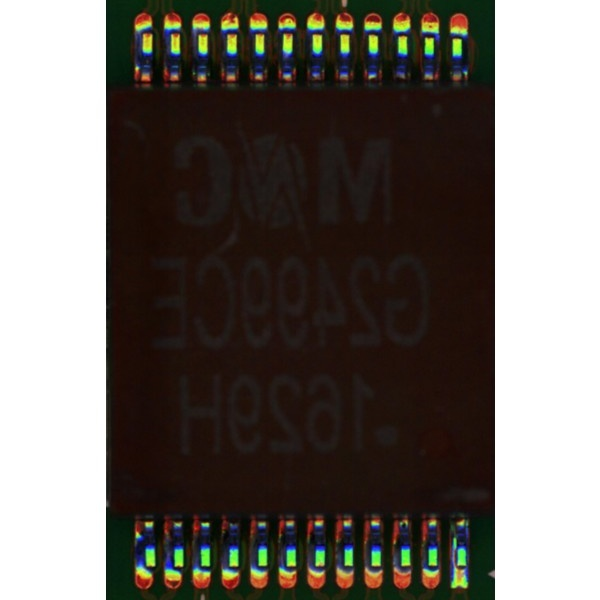Bad_podu: (458, 560, 466, 577)
Bad_qiaojiao: (452, 528, 458, 566)
